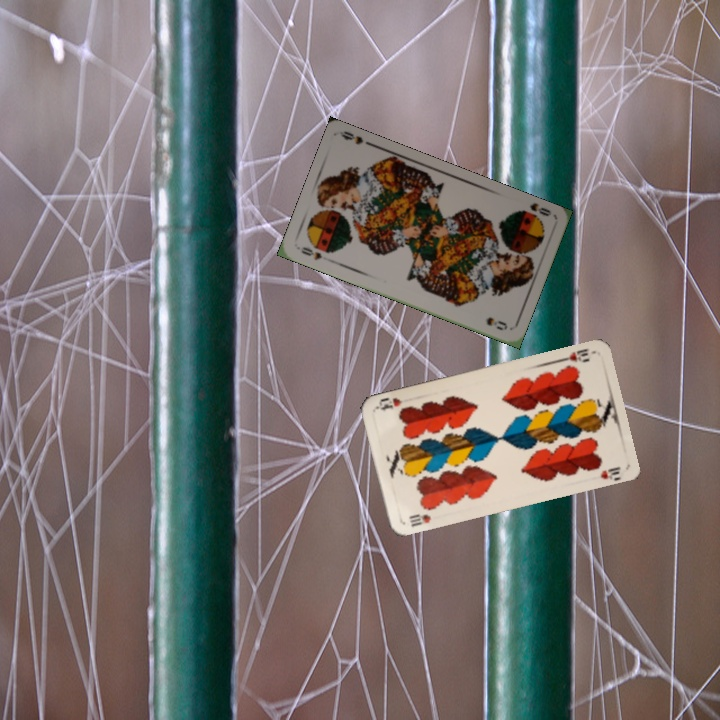H10: (556, 344, 592, 365), (405, 510, 433, 529)
SO: (514, 199, 554, 222), (297, 243, 325, 263)
